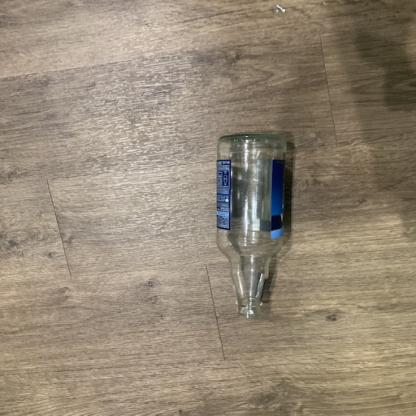trash: (213, 133, 296, 317)
